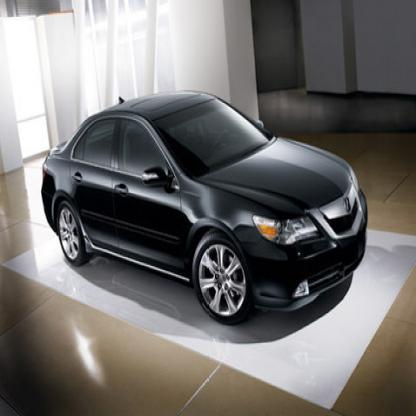Vehicle: (39, 89, 371, 330)
